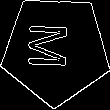M_E: (31, 26, 81, 74)
